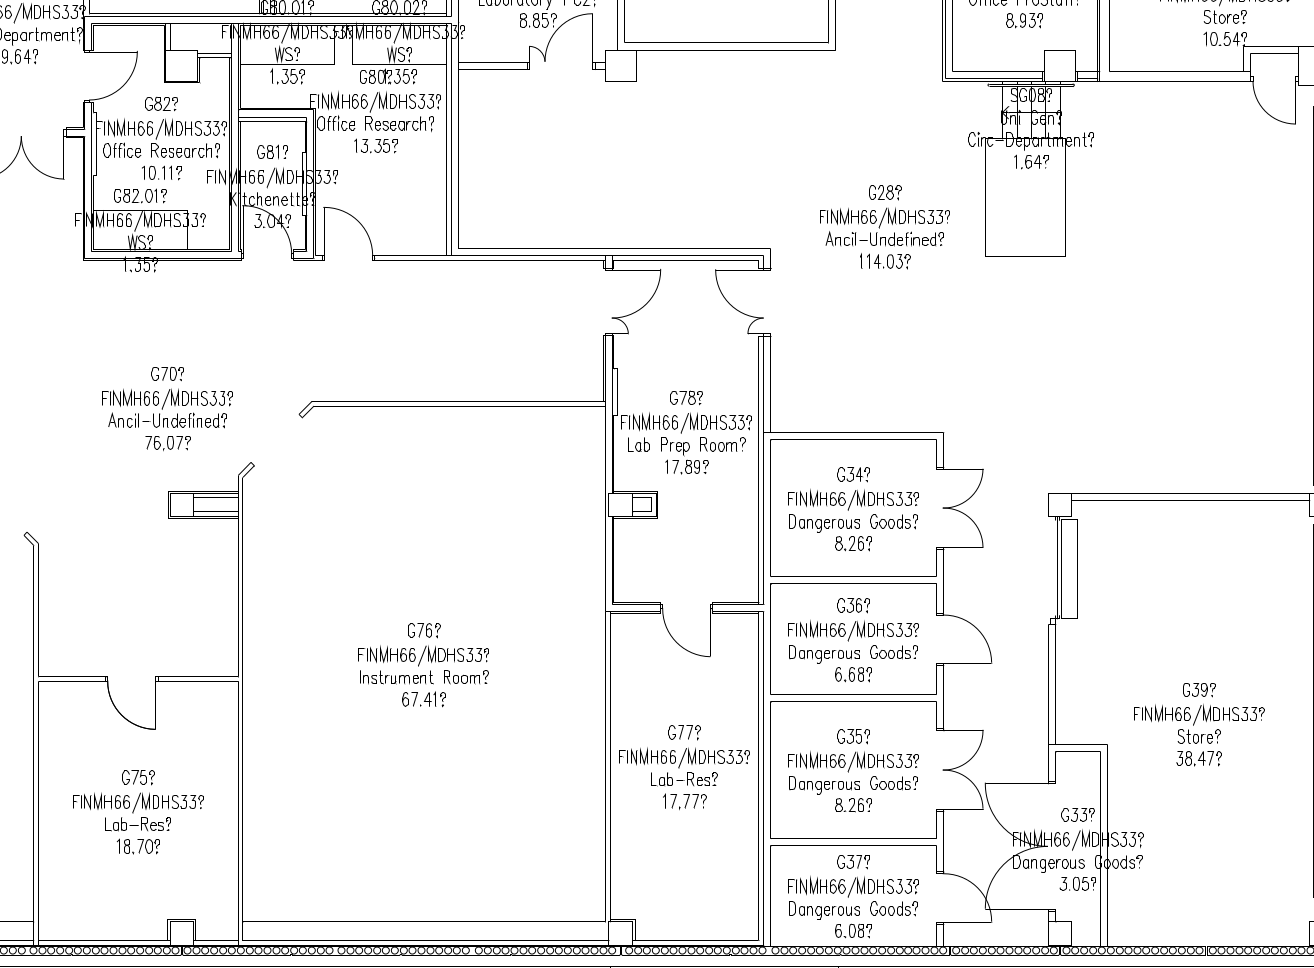door: (937, 859, 1010, 933), (981, 843, 1054, 917), (984, 773, 1057, 847), (659, 598, 722, 665), (100, 668, 163, 735), (241, 197, 304, 264), (83, 44, 146, 111), (318, 199, 381, 266), (934, 609, 995, 678), (543, 10, 595, 75), (933, 446, 985, 511), (933, 507, 985, 572), (18, 126, 72, 189), (603, 266, 666, 319), (703, 266, 766, 319), (1248, 77, 1300, 141), (930, 719, 991, 770), (932, 767, 988, 820), (513, 42, 545, 77), (598, 313, 631, 337), (740, 313, 773, 337)
